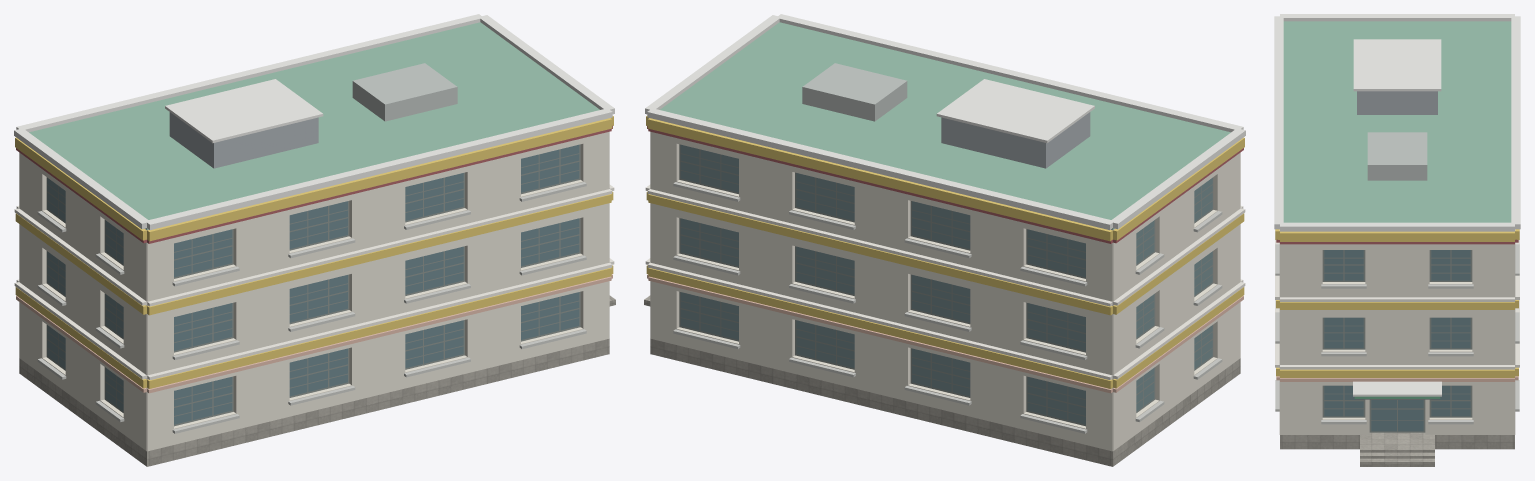
The picture shows the model from 3 angles, left to right: view 1: azimuth 30°, elevation 25°; view 2: azimuth 150°, elevation 25°; view 3: azimuth 270°, elevation 25°; orthographic projection. The views are drawn at different scales.
Parts seen in each view (by area): view 1: shinseon-hall__panel, shinseon-hall__roof, shinseon-hall__glass, shinseon-hall__cap, shinseon-hall__ochre, shinseon-hall__stone, shinseon-hall__frame, shinseon-hall__band, shinseon-hall__sill, shinseon-hall__steel, shinseon-hall__metalroof, shinseon-hall__sideglass (+2 smaller); view 2: shinseon-hall__panel, shinseon-hall__roof, shinseon-hall__sideglass, shinseon-hall__cap, shinseon-hall__ochre, shinseon-hall__stone, shinseon-hall__frame, shinseon-hall__band, shinseon-hall__sill, shinseon-hall__steel, shinseon-hall__metalroof, shinseon-hall__salmon (+1 smaller); view 3: shinseon-hall__roof, shinseon-hall__panel, shinseon-hall__cap, shinseon-hall__glass, shinseon-hall__ochre, shinseon-hall__frame, shinseon-hall__band, shinseon-hall__steel, shinseon-hall__stone, shinseon-hall__sill, shinseon-hall__metalroof, shinseon-hall__stair-east (+3 smaller).
Part boxes in pixels (<box>): shinseon-hall__panel: <box>19,131,609,451</box>; shinseon-hall__roof: <box>29,22,599,229</box>; shinseon-hall__glass: <box>174,144,579,424</box>; shinseon-hall__cap: <box>14,14,614,230</box>; shinseon-hall__ochre: <box>15,116,613,388</box>; shinseon-hall__stone: <box>19,338,609,466</box>; shinseon-hall__frame: <box>46,144,580,426</box>; shinseon-hall__band: <box>14,184,614,379</box>; shinseon-hall__sill: <box>37,182,586,433</box>; shinseon-hall__steel: <box>352,63,457,121</box>; shinseon-hall__metalroof: <box>169,112,318,168</box>; shinseon-hall__sideglass: <box>47,178,123,411</box>; shinseon-hall__panel: <box>650,131,1240,451</box>; shinseon-hall__roof: <box>660,22,1230,229</box>; shinseon-hall__sideglass: <box>680,144,1212,424</box>; shinseon-hall__cap: <box>645,14,1245,230</box>; shinseon-hall__ochre: <box>646,116,1244,388</box>; shinseon-hall__stone: <box>650,338,1240,466</box>; shinseon-hall__frame: <box>679,144,1213,426</box>; shinseon-hall__band: <box>645,184,1245,379</box>; shinseon-hall__sill: <box>673,182,1222,433</box>; shinseon-hall__steel: <box>802,63,907,121</box>; shinseon-hall__metalroof: <box>941,112,1090,168</box>; shinseon-hall__salmon: <box>647,274,1243,393</box>; shinseon-hall__roof: <box>1283,21,1511,222</box>; shinseon-hall__panel: <box>1279,229,1515,434</box>; shinseon-hall__cap: <box>1274,14,1520,396</box>; shinseon-hall__glass: <box>1324,250,1470,431</box>; shinseon-hall__ochre: <box>1275,229,1519,377</box>; shinseon-hall__frame: <box>1322,250,1472,432</box>; shinseon-hall__band: <box>1275,229,1519,369</box>; shinseon-hall__steel: <box>1367,132,1427,180</box>; shinseon-hall__stone: <box>1280,432,1514,449</box>; shinseon-hall__sill: <box>1275,244,1519,424</box>; shinseon-hall__metalroof: <box>1357,91,1437,114</box>; shinseon-hall__stair-east: <box>1360,446,1434,466</box>.
Size of the model in its own units: 25.73 by 12.88 by 11.52.
17 materials, 1 textured.
